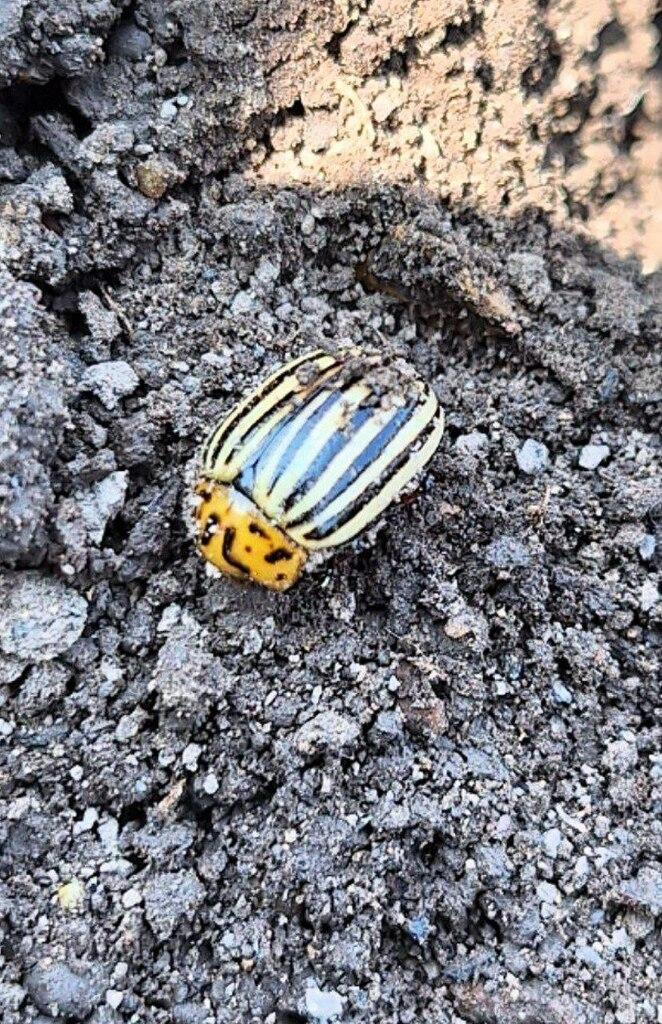potato_beetle: (126, 292, 478, 634)
